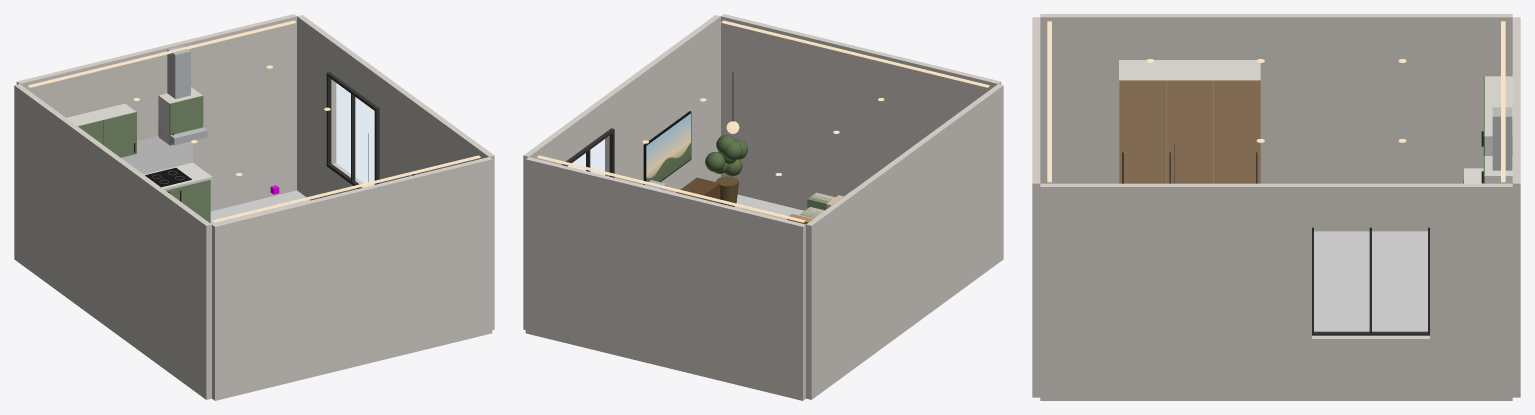
The model's file is demo_baked.glb.
3 views of the same model, side by side, from view 1: azimuth 30°, elevation 25°; view 2: azimuth 150°, elevation 25°; view 3: azimuth 270°, elevation 25° (orthographic). The views are drawn at different scales.
Parts seen in each view (by area): view 1: demo_room, kit_block, walltile_splash, door_L_wall_2, door_R_wall_4, floor, door_R_base_4, wall_carcass_4; view 2: demo_room, tv_unit, floor, option_sofa_3-Seater Sage; view 3: demo_room, floor, door_R_wardrobe_1, door_L_wardrobe_0, door_R_wardrobe_2, ward_carcass, kit_block, wall_carcass_0, wall_carcass_4.
Boxes of the visible parts, x1=… form: demo_room: x1=14, y1=14, x2=494, y2=400; kit_block: x1=144, y1=45, x2=212, y2=190; walltile_splash: x1=121, y1=136, x2=192, y2=174; door_L_wall_2: x1=103, y1=112, x2=136, y2=157; door_R_wall_4: x1=169, y1=95, x2=203, y2=145; floor: x1=210, y1=190, x2=310, y2=224; door_R_base_4: x1=177, y1=180, x2=210, y2=223; wall_carcass_4: x1=158, y1=87, x2=202, y2=144; demo_room: x1=523, y1=14, x2=1003, y2=400; tv_unit: x1=676, y1=177, x2=720, y2=203; floor: x1=735, y1=194, x2=804, y2=215; option_sofa_3-Seater Sage: x1=799, y1=195, x2=843, y2=224; demo_room: x1=1032, y1=14, x2=1520, y2=400; floor: x1=1314, y1=231, x2=1427, y2=331; door_R_wardrobe_1: x1=1166, y1=80, x2=1213, y2=183; door_L_wardrobe_0: x1=1213, y1=80, x2=1260, y2=183; door_R_wardrobe_2: x1=1119, y1=80, x2=1165, y2=183; ward_carcass: x1=1119, y1=60, x2=1260, y2=183; kit_block: x1=1464, y1=107, x2=1512, y2=183; wall_carcass_0: x1=1485, y1=76, x2=1512, y2=96; wall_carcass_4: x1=1485, y1=156, x2=1512, y2=183.
Size of the model in its own units: 5.21 by 3 by 6.2.
42 materials, 1 textured.
